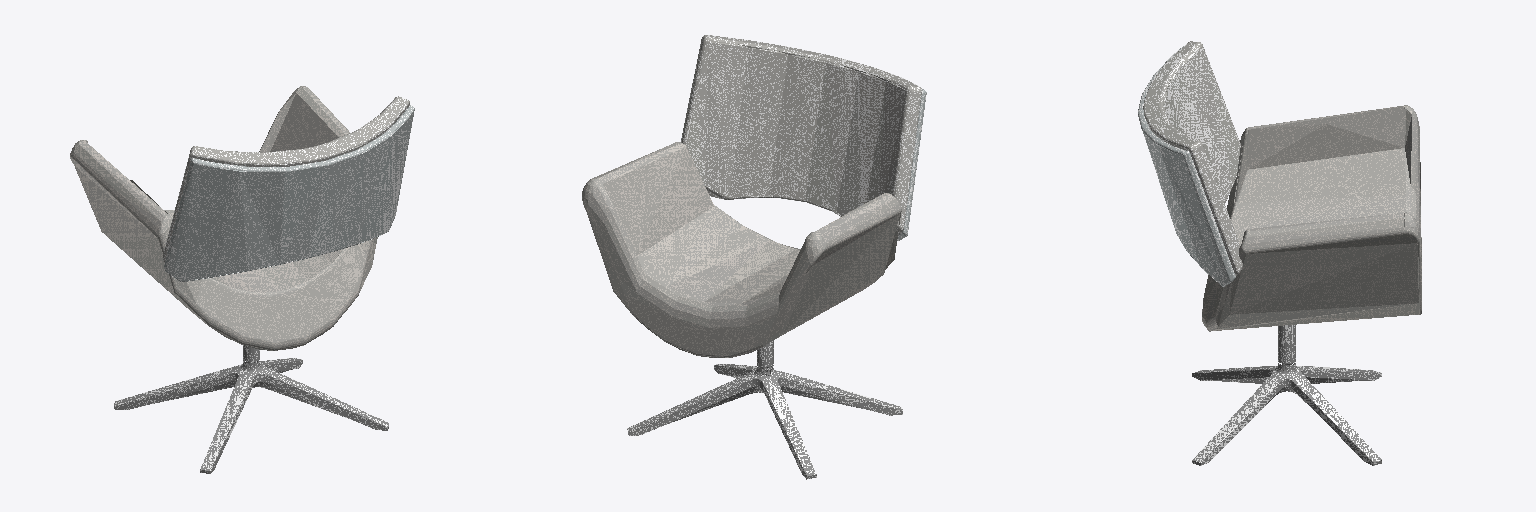
3 renders of one model, left to right at view 1: azimuth 30°, elevation 25°; view 2: azimuth 150°, elevation 25°; view 3: azimuth 270°, elevation 25°, orthographic.
Parts seen in each view (by area): view 1: mesh1_mesh1-geometry, mesh2_mesh2-geometry, mesh5_mesh5-geometry, mesh3_mesh3-geometry, mesh4_mesh4-geometry; view 2: mesh2_mesh2-geometry, mesh4_mesh4-geometry, mesh3_mesh3-geometry, mesh5_mesh5-geometry, mesh1_mesh1-geometry; view 3: mesh2_mesh2-geometry, mesh3_mesh3-geometry, mesh5_mesh5-geometry, mesh1_mesh1-geometry, mesh4_mesh4-geometry, mesh7_mesh7-geometry.
Part boxes in pixels (bbox=[...]): mesh1_mesh1-geometry: bbox=[164, 105, 414, 281]; mesh2_mesh2-geometry: bbox=[70, 86, 377, 350]; mesh5_mesh5-geometry: bbox=[114, 358, 388, 473]; mesh3_mesh3-geometry: bbox=[163, 146, 323, 262]; mesh4_mesh4-geometry: bbox=[316, 96, 409, 160]; mesh2_mesh2-geometry: bbox=[582, 142, 901, 357]; mesh4_mesh4-geometry: bbox=[681, 35, 833, 201]; mesh3_mesh3-geometry: bbox=[805, 57, 921, 233]; mesh5_mesh5-geometry: bbox=[627, 364, 902, 479]; mesh1_mesh1-geometry: bbox=[897, 89, 926, 240]; mesh2_mesh2-geometry: bbox=[1202, 105, 1421, 331]; mesh3_mesh3-geometry: bbox=[1143, 41, 1240, 202]; mesh5_mesh5-geometry: bbox=[1192, 361, 1381, 465]; mesh1_mesh1-geometry: bbox=[1138, 46, 1235, 286]; mesh4_mesh4-geometry: bbox=[1143, 102, 1242, 275]; mesh7_mesh7-geometry: bbox=[1278, 325, 1295, 363].
Bounding box in the file's own units: 0.5183 × 0.6725 × 0.5283.
5 materials, 3 textured.